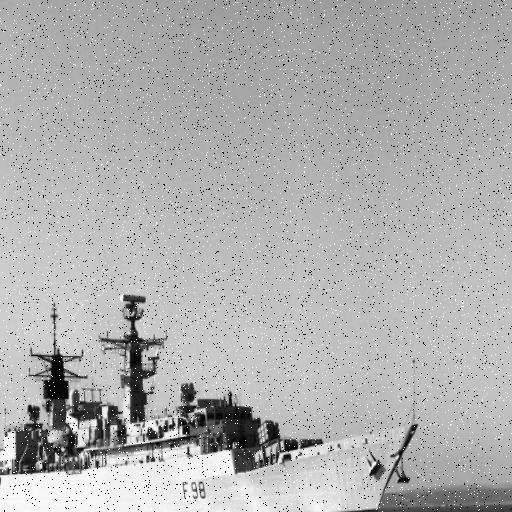Fragata: (1, 272, 424, 512)
